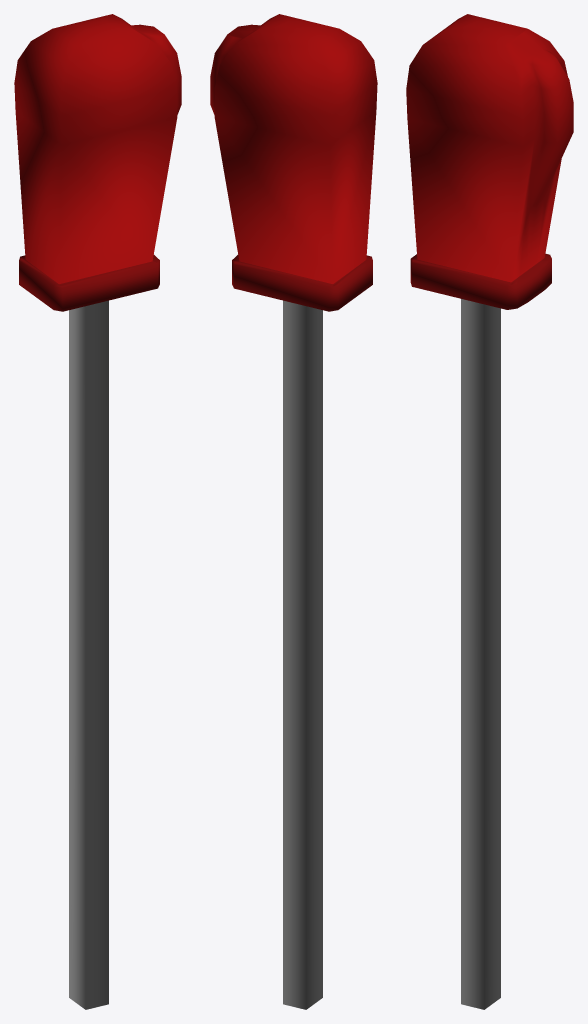
Rendered from boxingGlove.fbx.
The picture shows the model from 3 angles, left to right: view 1: azimuth 30°, elevation 25°; view 2: azimuth 150°, elevation 25°; view 3: azimuth 330°, elevation 25°; orthographic projection.
Visible parts, largest first — view 1: BoxingGlove; view 2: BoxingGlove; view 3: BoxingGlove.
Part boxes in pixels (x1,y1,x2,y2): BoxingGlove: (14, 14, 181, 1009); BoxingGlove: (210, 14, 377, 1009); BoxingGlove: (406, 14, 573, 1009).
Size of the model in its own units: 159 by 1078 by 92.87.
